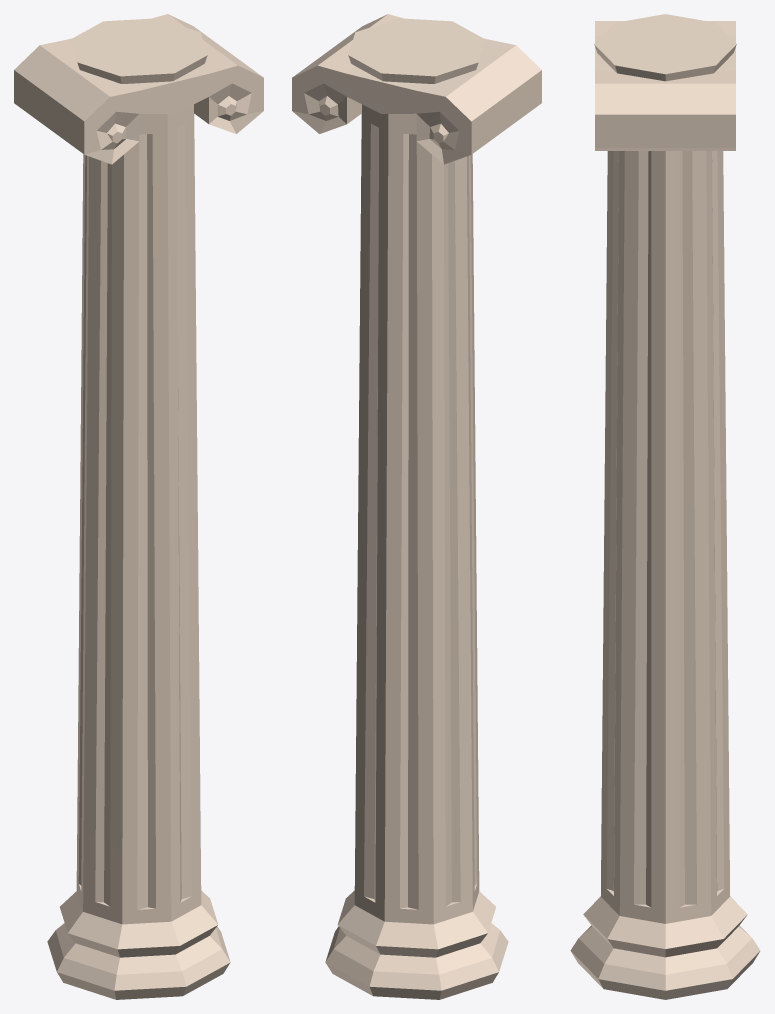
Rendered from pillar-ionic.glb.
3 views of the same model, side by side, from view 1: azimuth 30°, elevation 25°; view 2: azimuth 150°, elevation 25°; view 3: azimuth 270°, elevation 25° (orthographic).
Parts seen in each view (by area): view 1: pillar-ionic; view 2: pillar-ionic; view 3: pillar-ionic.
Part boxes in pixels (x1=…): pillar-ionic: x1=14, y1=14, x2=263, y2=999; pillar-ionic: x1=292, y1=14, x2=541, y2=999; pillar-ionic: x1=570, y1=14, x2=760, y2=999.
Size of the model in its own units: 1.02 by 5 by 0.9382.
Materials: 1 (1 with a texture image).
